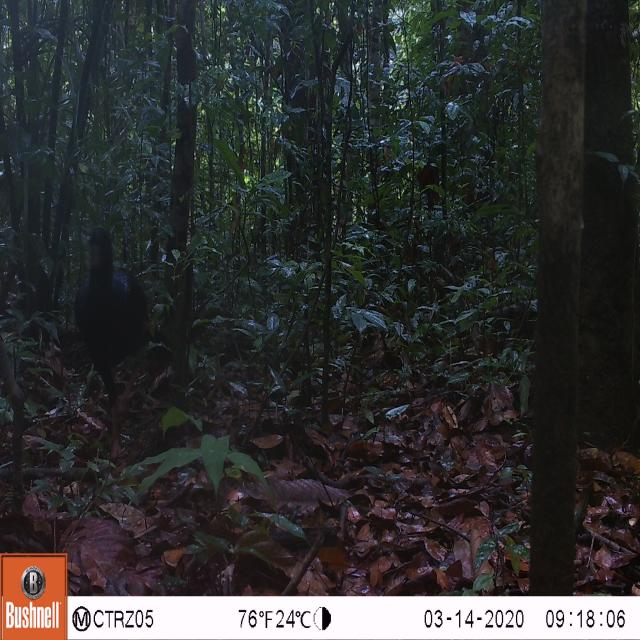Salvins Curassow: (60, 214, 169, 467)
